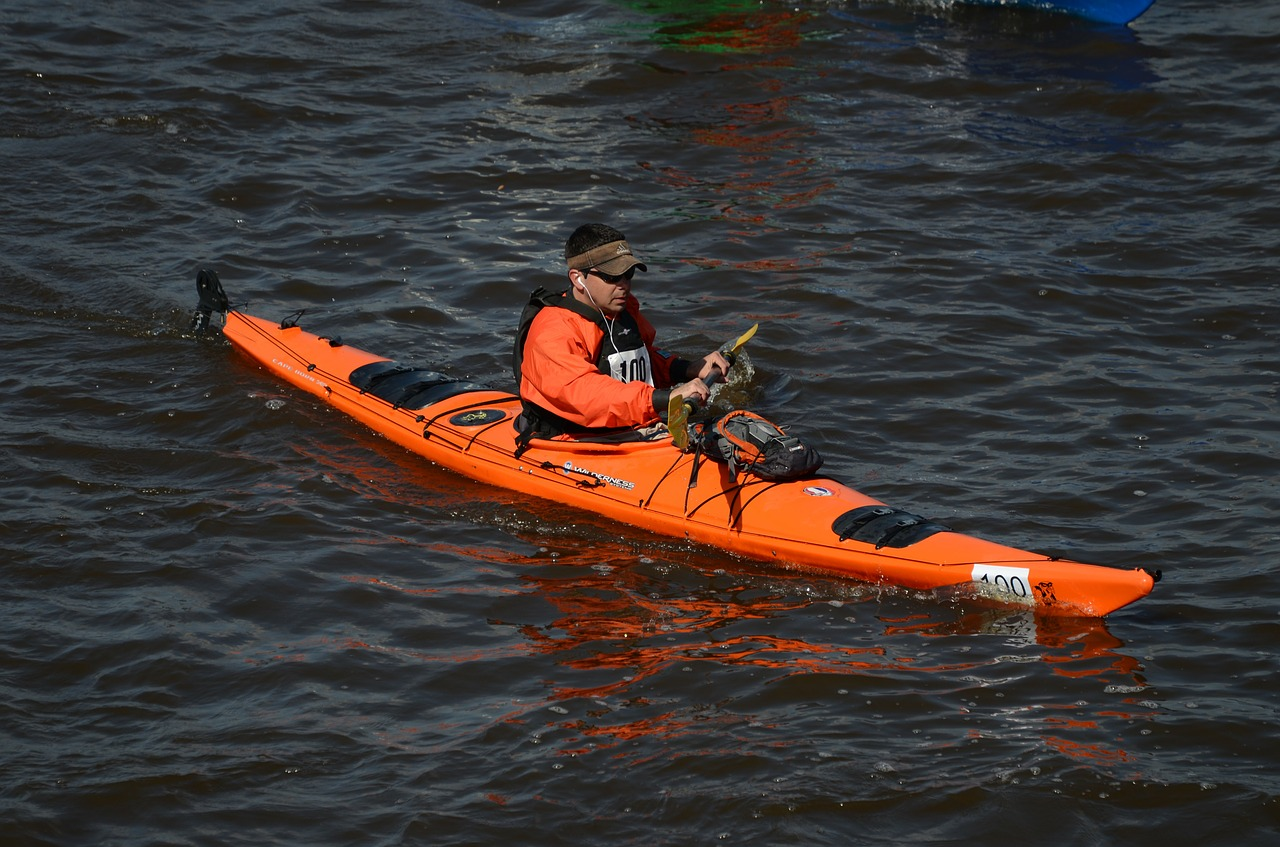kayak: (194, 277, 1160, 620)
